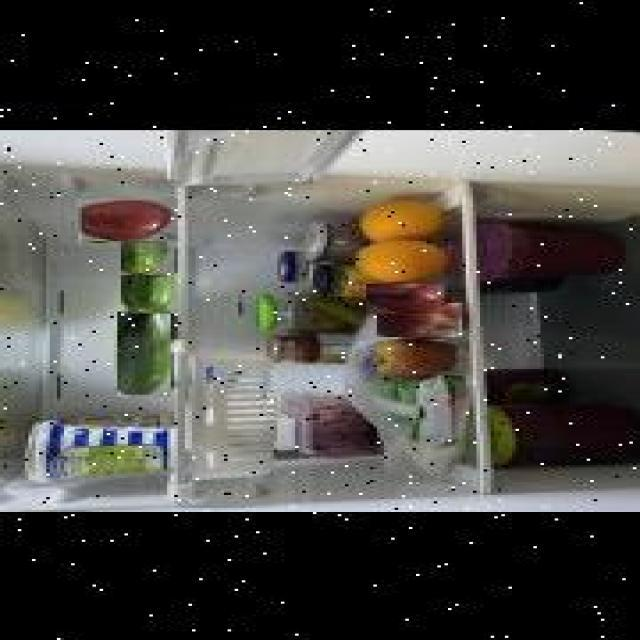apple: (78, 196, 178, 241), (373, 338, 462, 376), (377, 300, 462, 334), (368, 282, 446, 312)
cucumber: (118, 310, 170, 394), (121, 270, 178, 312), (120, 239, 174, 273)
yogurt: (25, 419, 171, 479)
